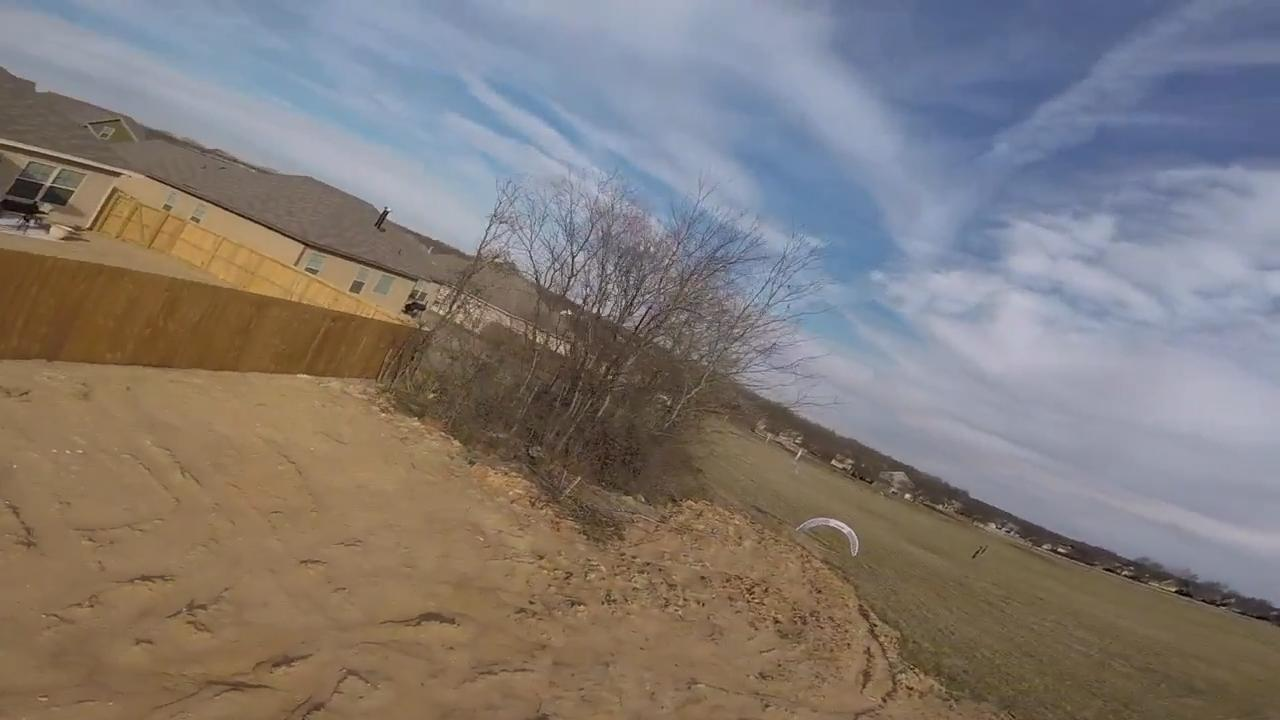gate: (792, 515, 862, 558)
